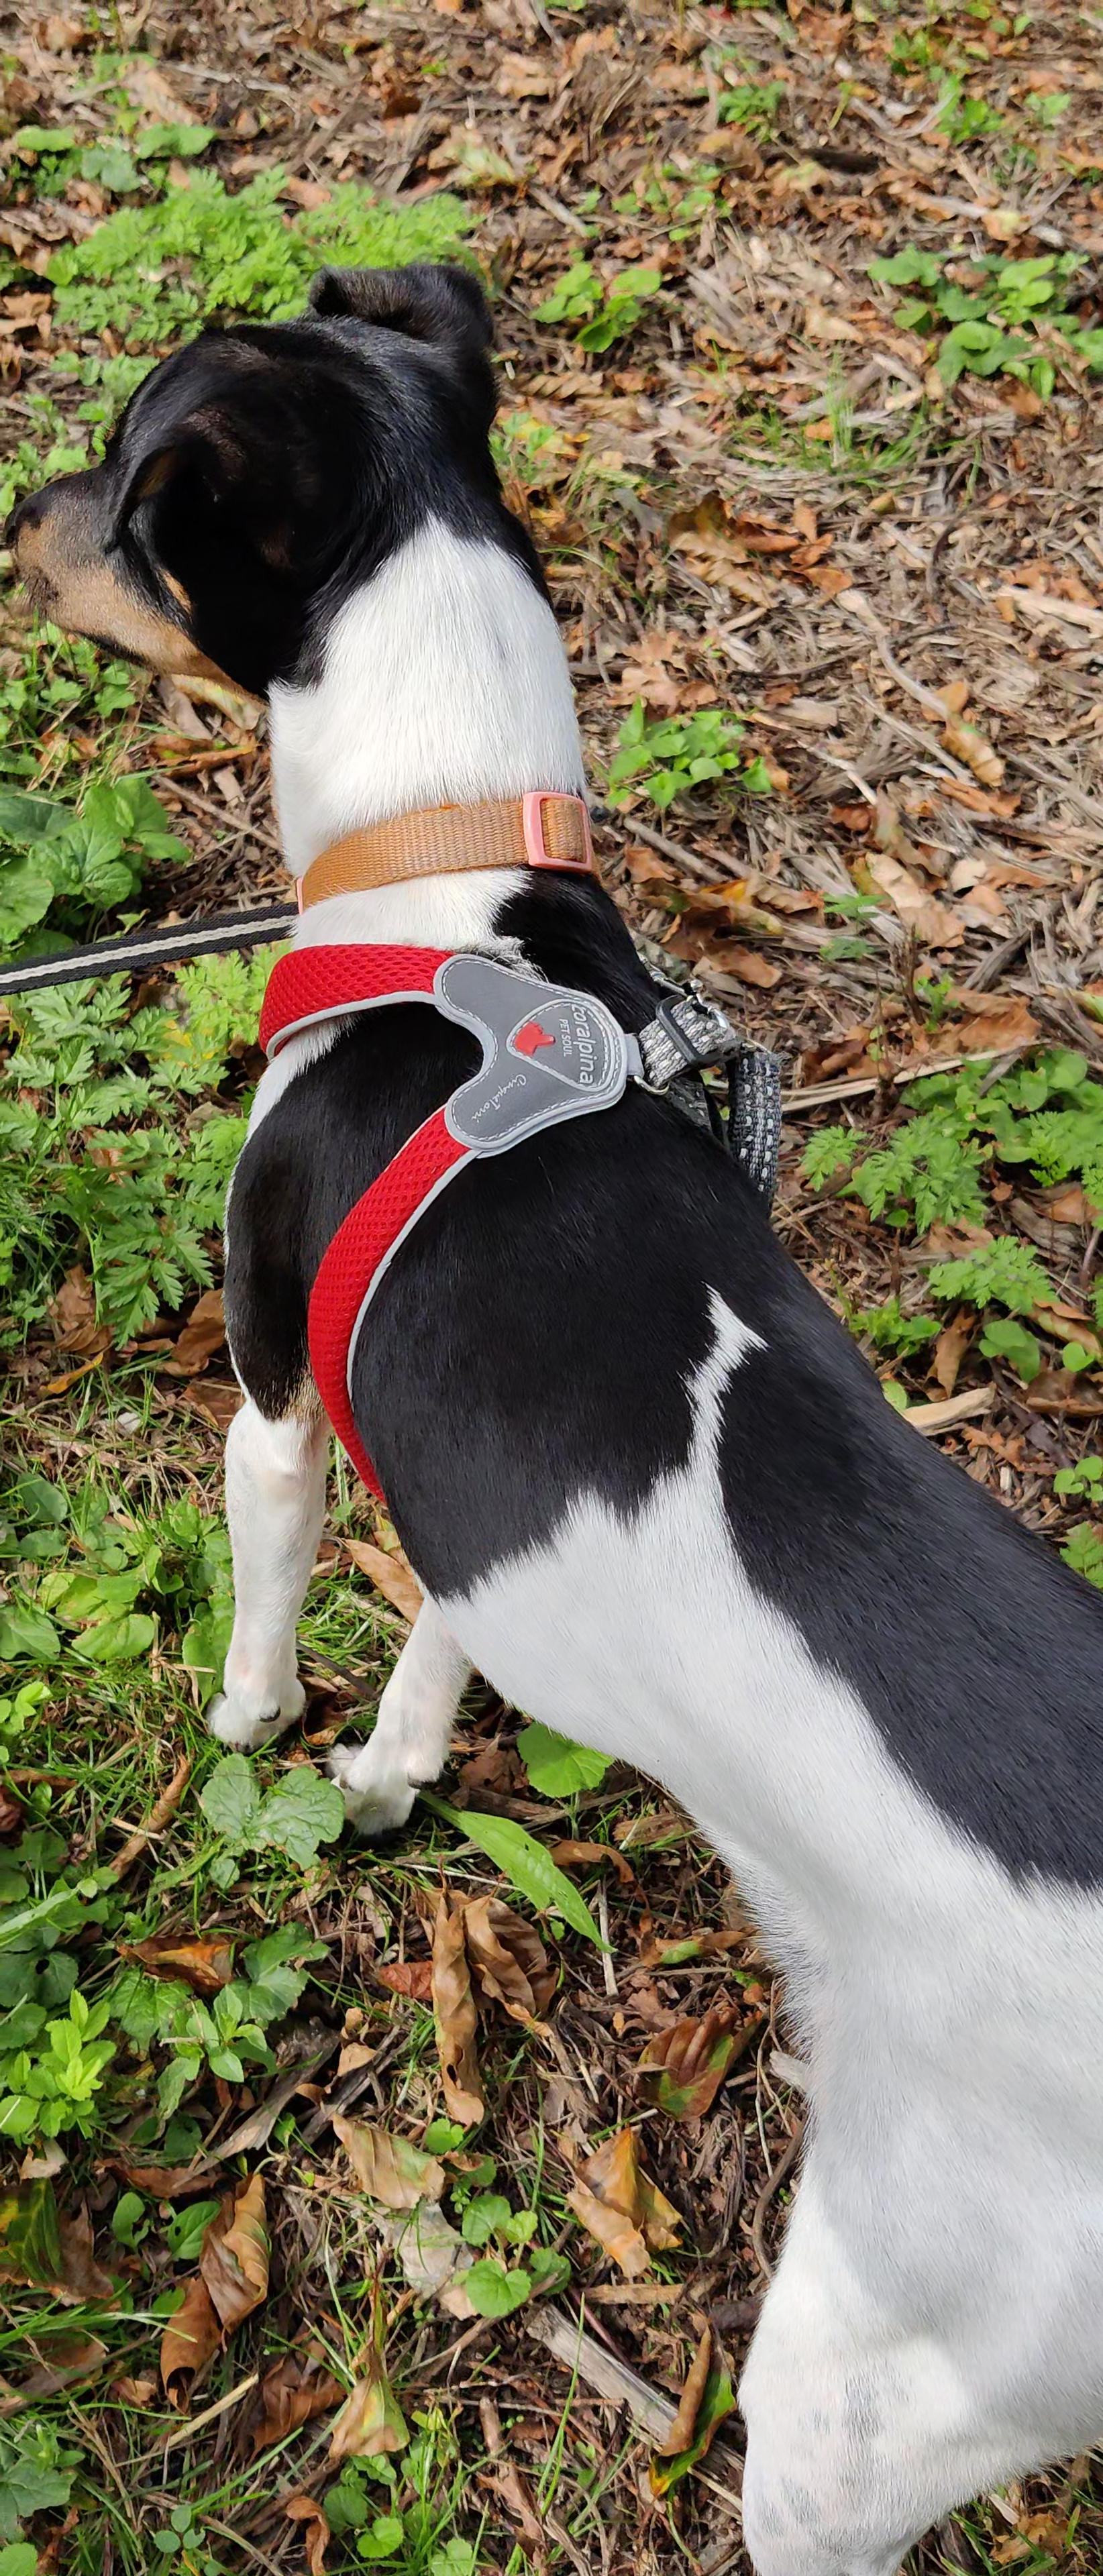Dog: (7, 260, 1103, 2576)
